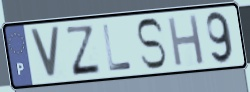9: (205, 10, 236, 66)
H: (166, 12, 207, 69)
L: (101, 23, 135, 74)
S: (134, 16, 168, 72)
V: (27, 26, 62, 81)
Z: (64, 25, 103, 78)
